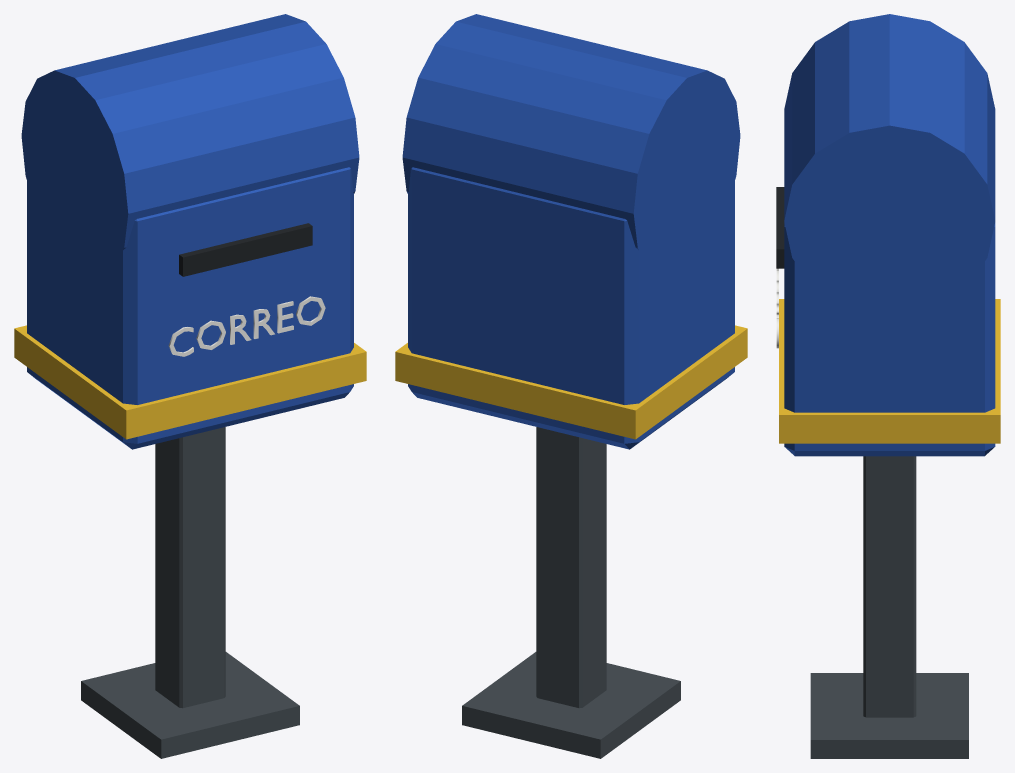
File: Mailbox.fbx
The picture shows the model from 3 angles, left to right: view 1: azimuth 30°, elevation 25°; view 2: azimuth 150°, elevation 25°; view 3: azimuth 270°, elevation 25°; orthographic projection.
Parts seen in each view (by area): view 1: Mailbox; view 2: Mailbox; view 3: Mailbox.
Boxes of the visible parts, x1,y1,x2,y2 form: Mailbox: (14,14,366,758); Mailbox: (395,14,747,758); Mailbox: (776,14,1000,758).
Size of the model in its own units: 0.52 by 1.37 by 0.425.
